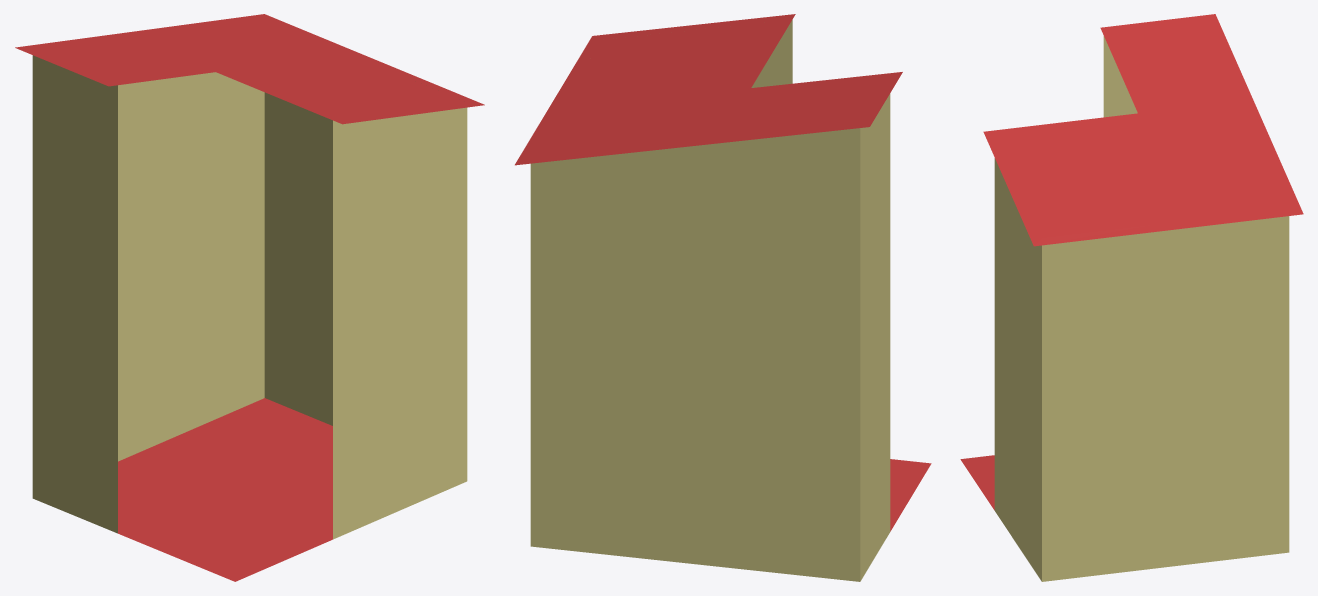
The picture shows the model from 3 angles, left to right: view 1: azimuth 30°, elevation 25°; view 2: azimuth 150°, elevation 25°; view 3: azimuth 270°, elevation 25°; orthographic projection. The views are drawn at different scales.
Size of the model in its own units: 8.23 by 7.27 by 9.56.
